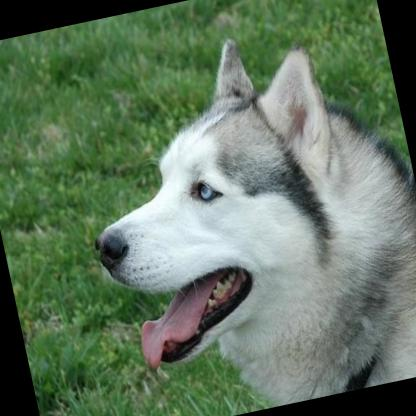Siberian_husky: (58, 5, 416, 416)
